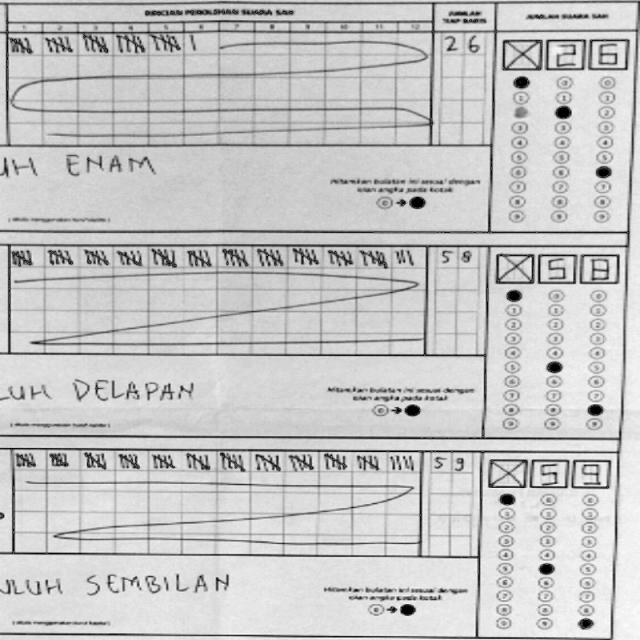Suara: (498, 34, 630, 72), (494, 248, 620, 285), (483, 456, 611, 489)
